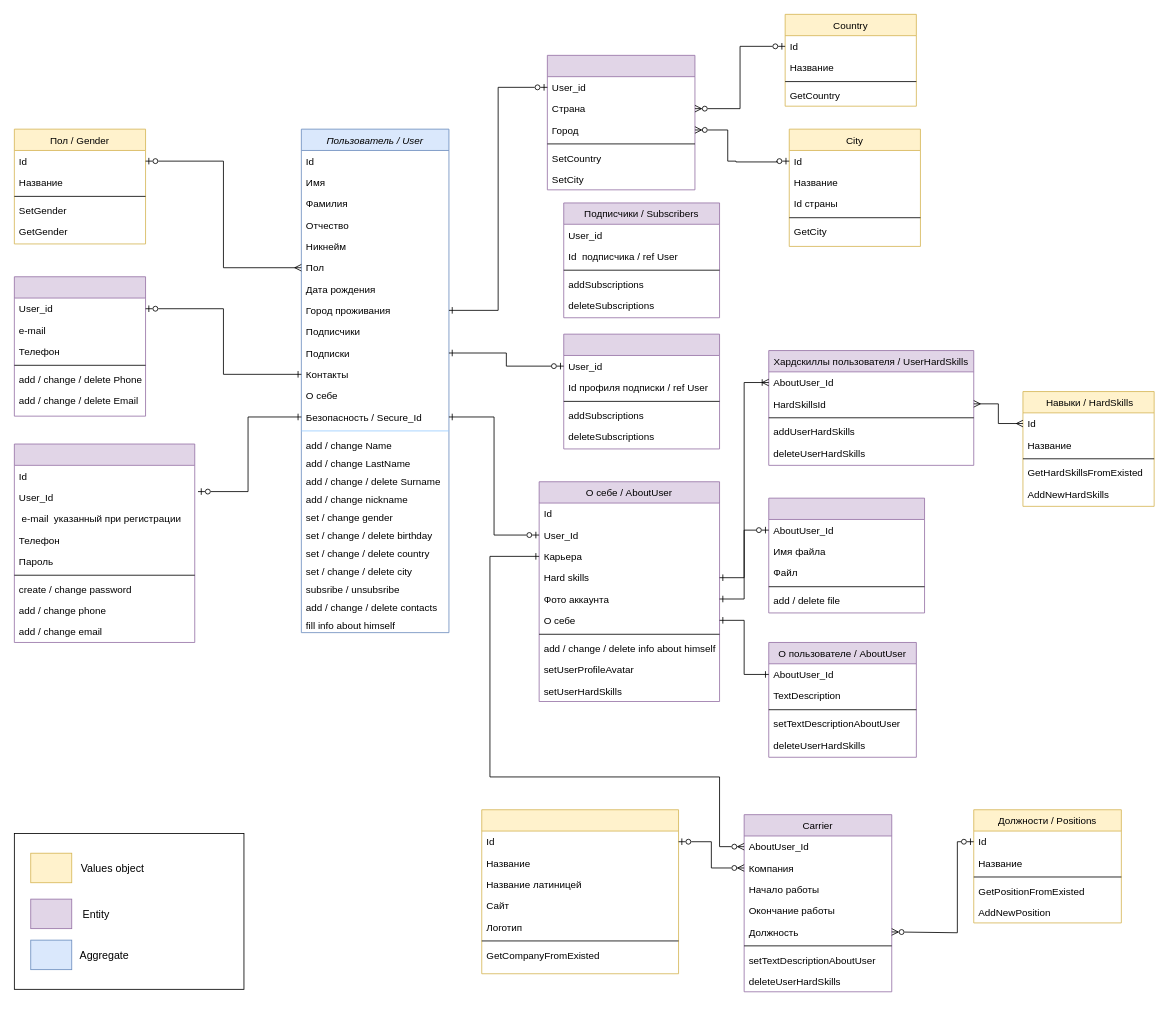
The diagram is 1169 pixels wide and 1009 high, and some of its shapes have lost their labels. The shapes that lost their labels are listed below. From the top down, each one's box as (x1, y1, x2, y2) in pixels, then its label:
(547, 55, 695, 190): Город проживания / Location
(14, 276, 146, 416): Контакты / Contacts
(563, 333, 720, 449): Подписки / Subscriptions
(14, 443, 195, 642): Безопасность / Secure
(768, 497, 925, 613): Фото профиля / ProfileAvatar
(481, 809, 679, 974): Компании-работодатели / Company
